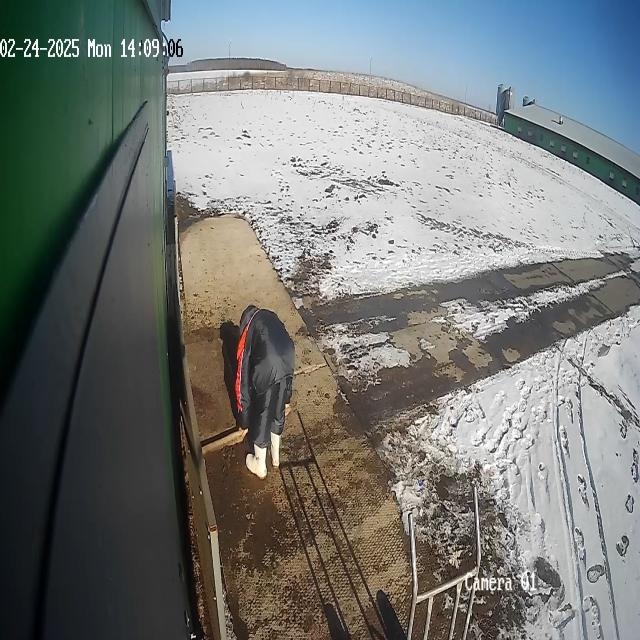Red uniform: (218, 302, 297, 481)
